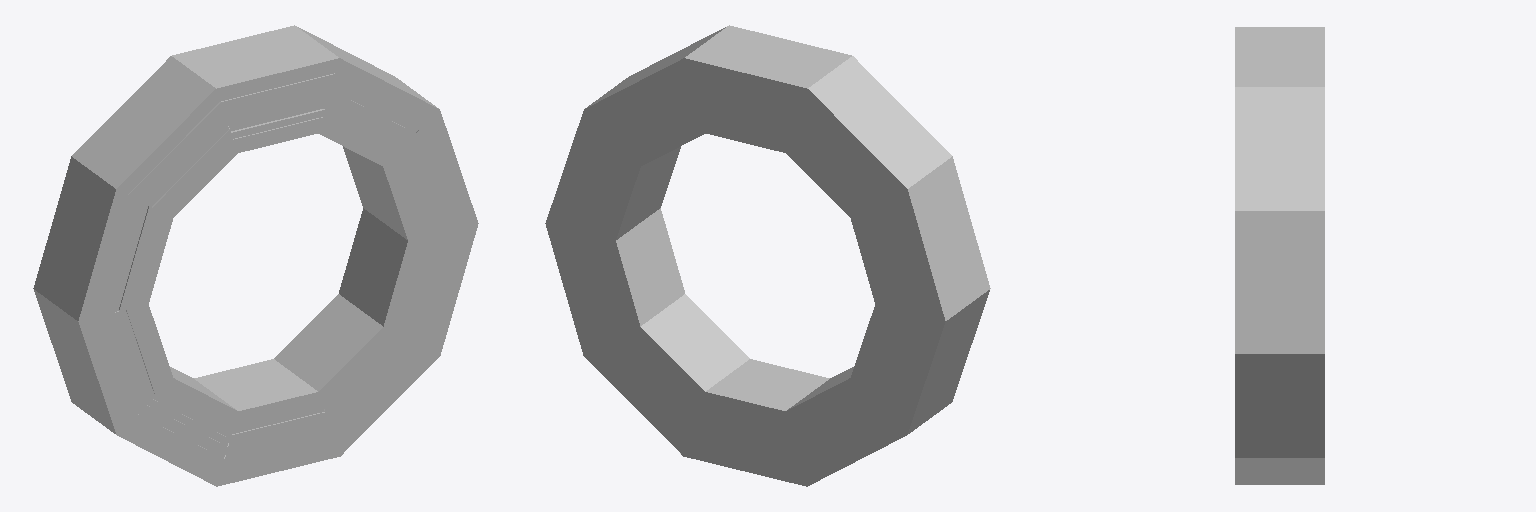
Rendered from bound_aligned.obj.
3 views of the same model, side by side, from view 1: azimuth 30°, elevation 25°; view 2: azimuth 150°, elevation 25°; view 3: azimuth 270°, elevation 25° (orthographic).
Parts seen in each view (by area): view 1: Polygonal_Model_1 Triangles_0; view 2: Polygonal_Model_1 Triangles_0; view 3: Polygonal_Model_1 Triangles_0.
Part boxes in pixels (bbox=[...]): Polygonal_Model_1 Triangles_0: bbox=[33, 25, 478, 486]; Polygonal_Model_1 Triangles_0: bbox=[545, 25, 990, 486]; Polygonal_Model_1 Triangles_0: bbox=[1235, 27, 1324, 484].
Size of the model in its own units: 15.43 by 14.68 by 3.